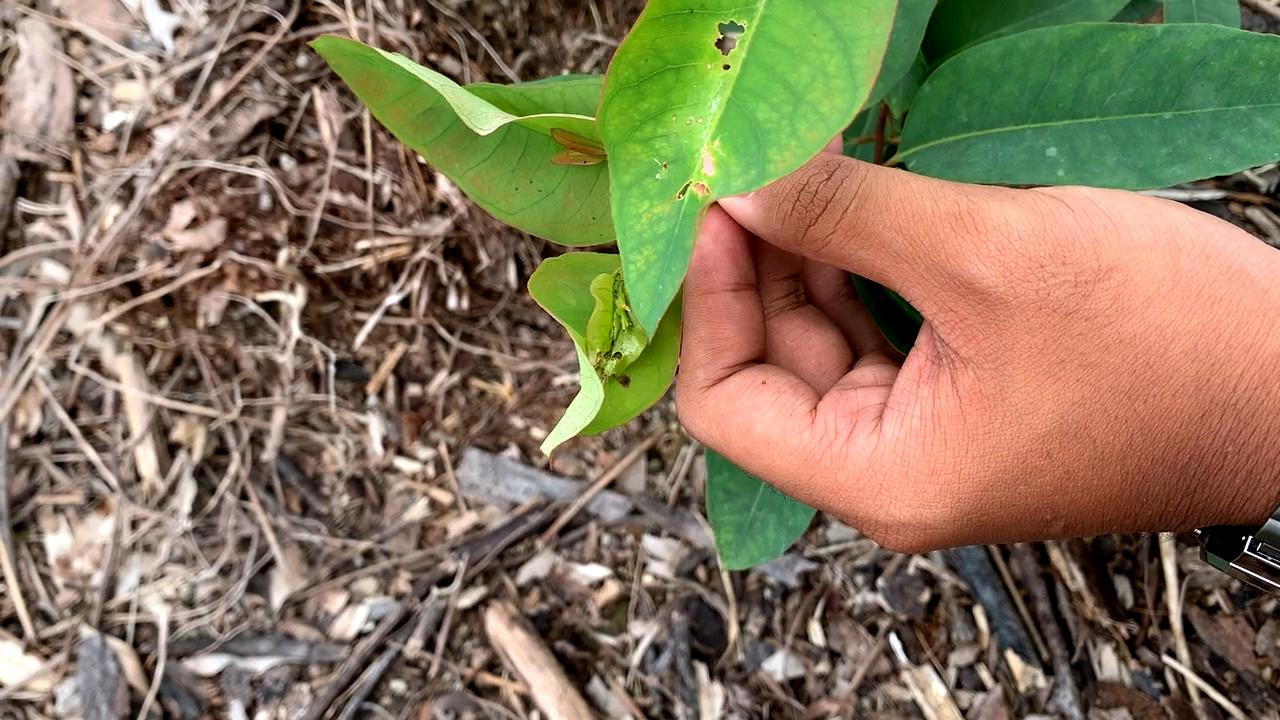Leaf Roller - Leaf: (581, 272, 646, 396)
